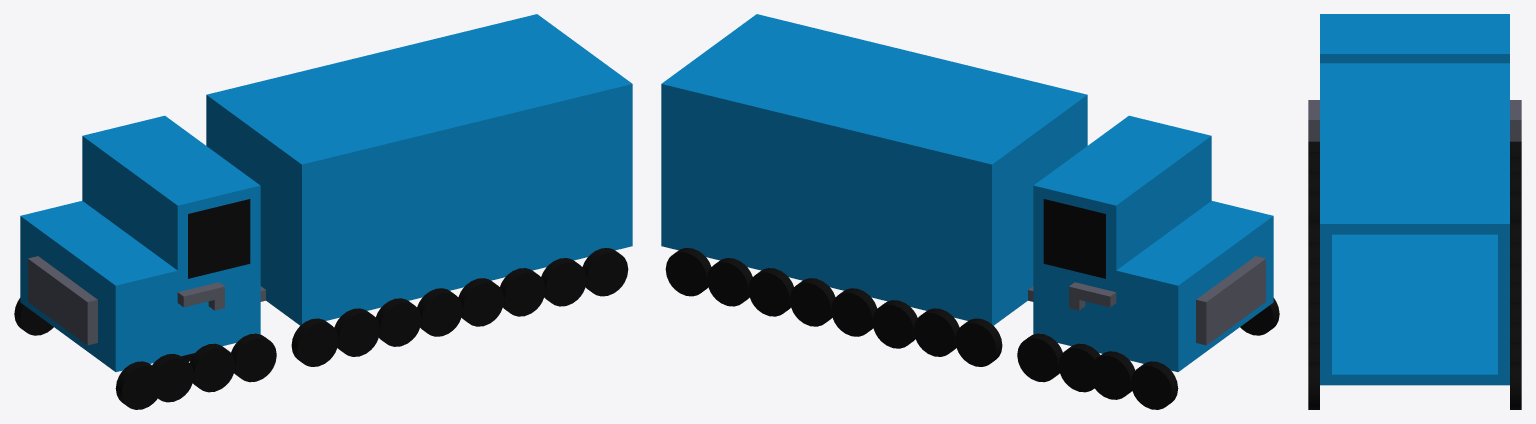
File: truck.fbx
3 renders of one model, left to right at view 1: azimuth 30°, elevation 25°; view 2: azimuth 150°, elevation 25°; view 3: azimuth 270°, elevation 25°, orthographic.
Visible parts, largest first — view 1: truck; view 2: truck; view 3: truck.
Part boxes in pixels (bbox=[...]): truck: bbox=[14, 14, 632, 409]; truck: bbox=[661, 14, 1279, 409]; truck: bbox=[1308, 14, 1521, 409].
Size of the model in its own units: 5100 by 1900 by 1800.
